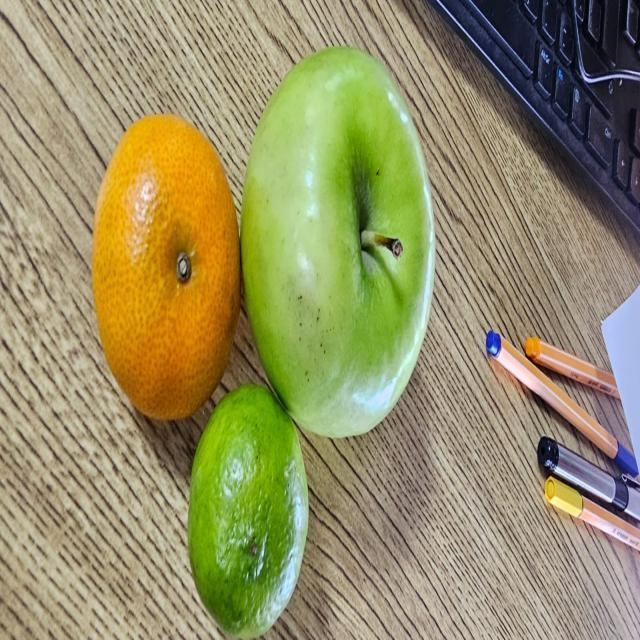Apel Granny Smith: (243, 41, 438, 446)
Jeruk Mandarin: (84, 112, 244, 428)
Lemon: (182, 395, 322, 640)
